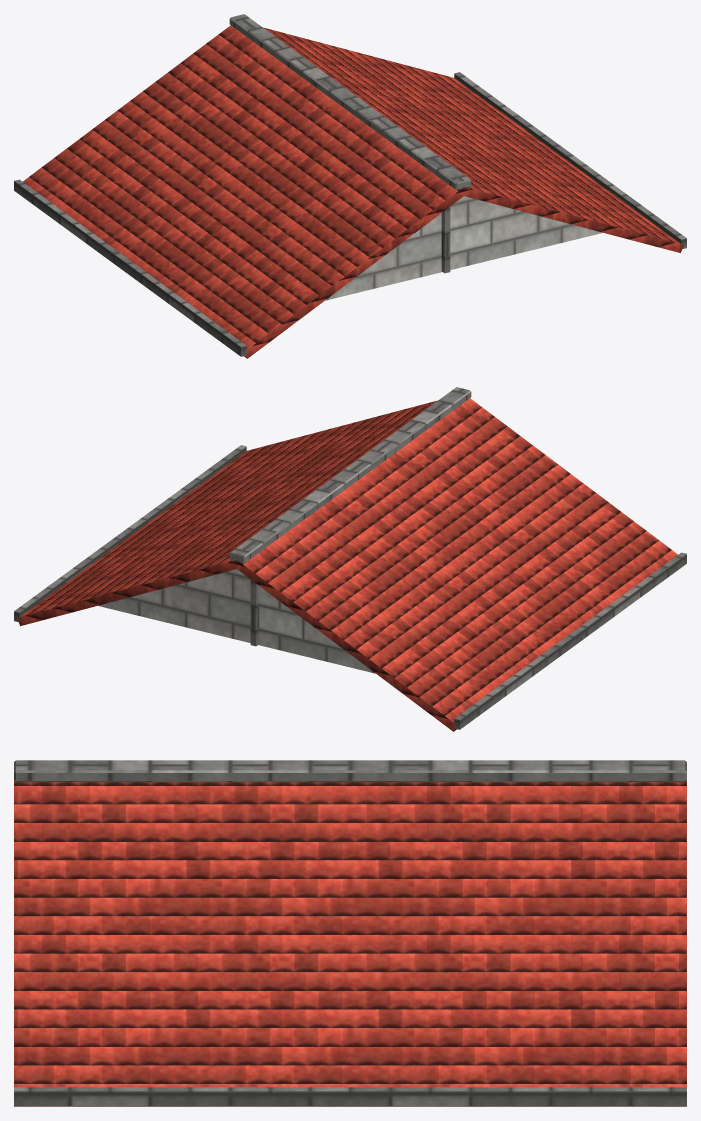
Rendered from roof_bank2.glb.
3 views of the same model, one above another, from view 1: azimuth 30°, elevation 25°; view 2: azimuth 150°, elevation 25°; view 3: azimuth 270°, elevation 25° (orthographic). The views are drawn at different scales.
Visible parts, largest first — view 1: roof_bank2; view 2: roof_bank2; view 3: roof_bank2.
Part boxes in pixels (box(x1,y1,x2,y2)): roof_bank2: box(14, 14, 686, 358); roof_bank2: box(14, 387, 686, 731); roof_bank2: box(14, 760, 686, 1106).
Size of the model in its own units: 9.52 by 2.54 by 8.4.
Materials: 3 (3 with a texture image).
